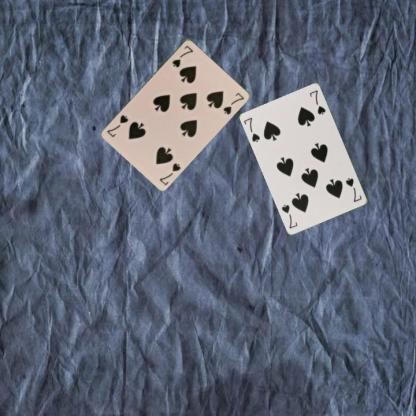7s: (157, 160, 182, 187), (170, 42, 194, 68), (242, 115, 262, 144), (344, 175, 364, 203)
